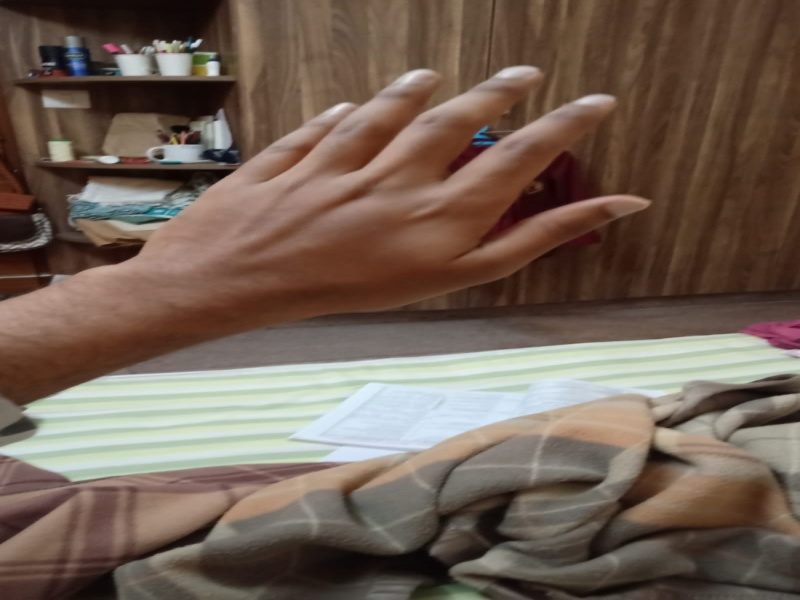Hand: (73, 52, 657, 327)
